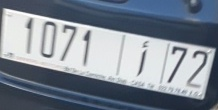0: (40, 17, 58, 62)
1: (80, 26, 95, 68), (21, 16, 34, 57)
2: (185, 49, 209, 90)
7: (165, 44, 188, 86), (60, 22, 79, 64)
a: (137, 38, 149, 77)
